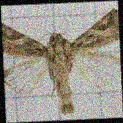Spodoptera litura: (3, 9, 120, 115)
